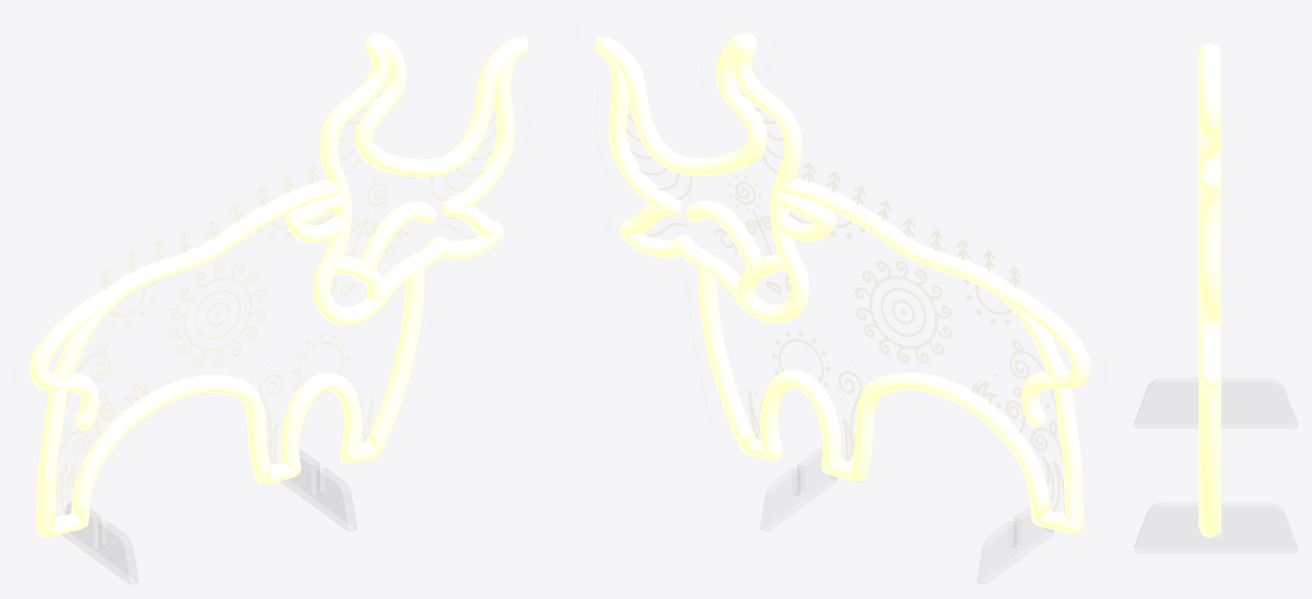
File: БИЧОК_САЙТ_.glb
3 renders of one model, left to right at view 1: azimuth 30°, elevation 25°; view 2: azimuth 150°, elevation 25°; view 3: azimuth 270°, elevation 25°, orthographic. The views are drawn at different scales.
Parts seen in each view (by area): view 1: Curve.014, Curve.013, Curve.005; view 2: Curve.014, Curve.013, Curve.005; view 3: Curve.005, Curve.014.
Boxes of the visible parts, x1,y1,x2,y2 form: Curve.014: (29, 32, 528, 537); Curve.013: (56, 92, 498, 515); Curve.005: (62, 449, 356, 584); Curve.014: (595, 32, 1090, 533); Curve.013: (595, 92, 1064, 514); Curve.005: (760, 449, 1053, 584); Curve.005: (1135, 378, 1296, 552); Curve.014: (1198, 43, 1221, 537).
Bounding box in the file's own units: 0.3094 × 0.2667 × 0.0701.
Materials: 3 (1 with a texture image).
